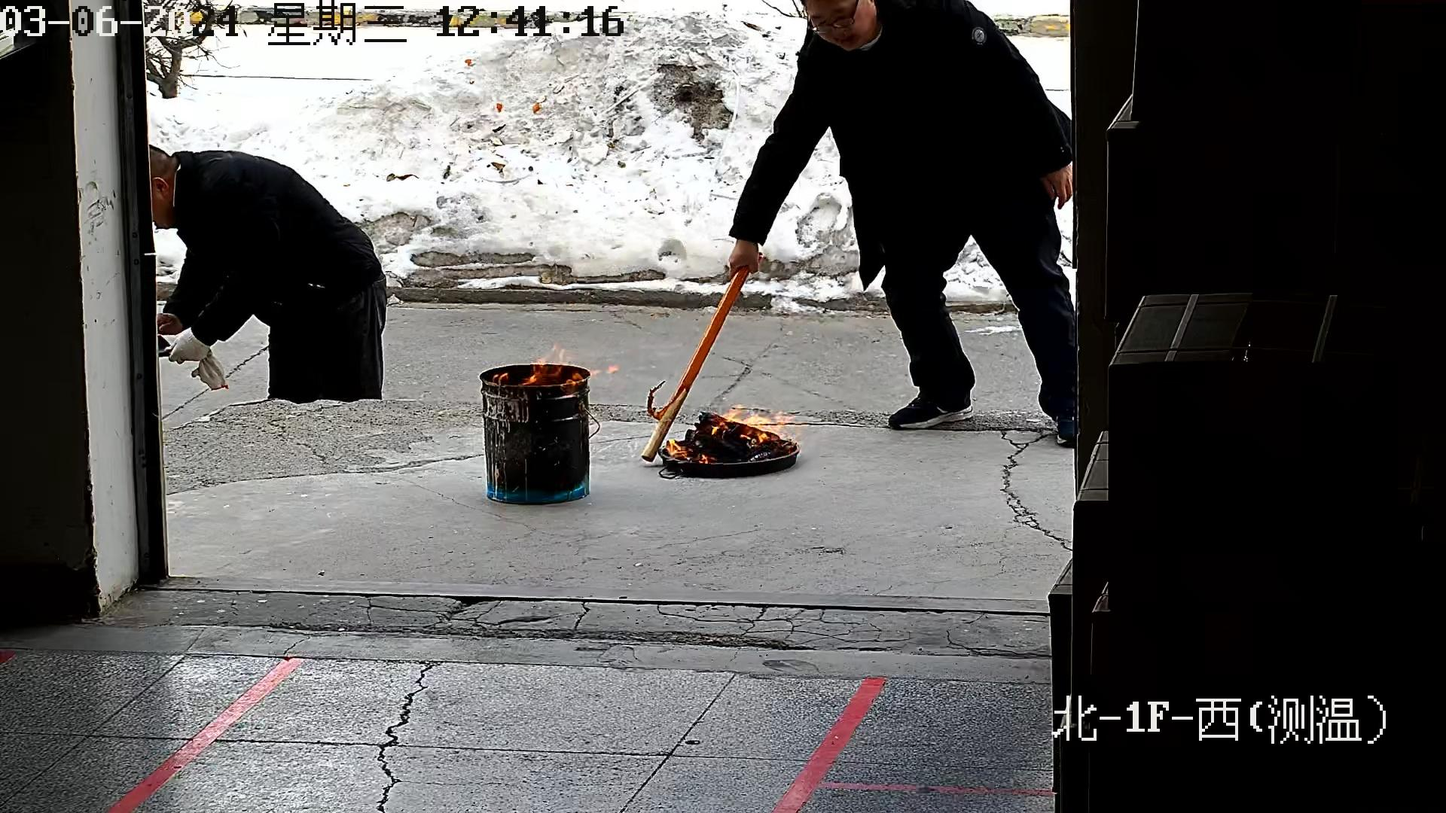fire: (663, 409, 796, 464), (482, 363, 590, 386)
